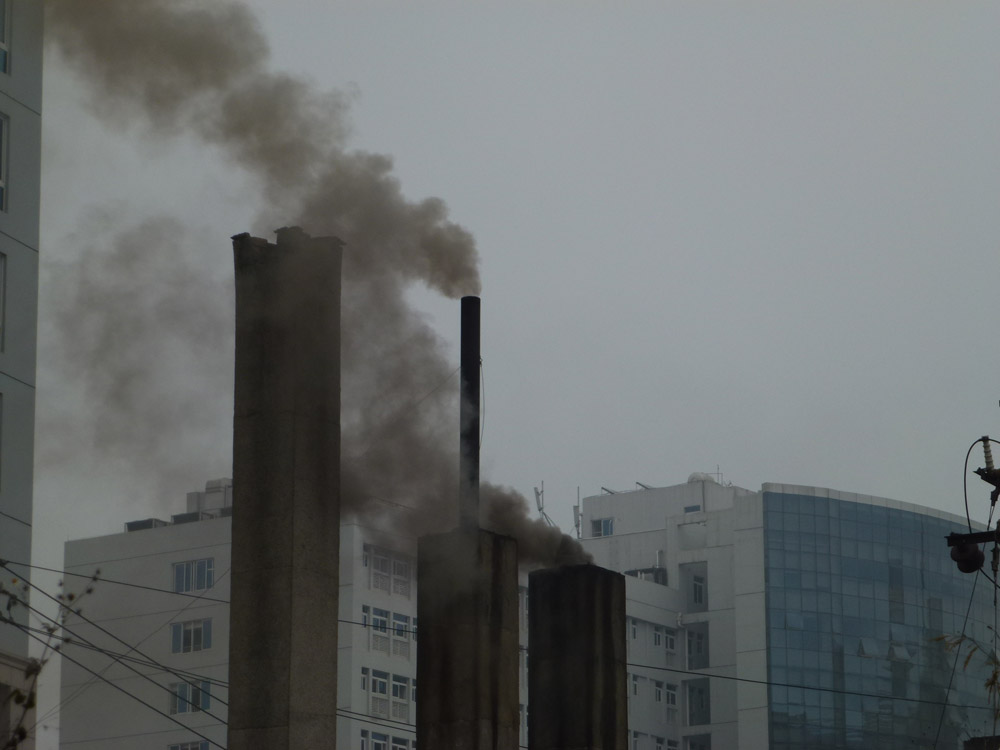dust: (412, 463, 643, 617), (344, 165, 503, 311)
